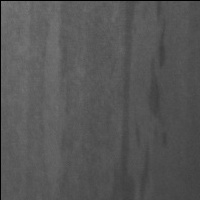inclusion: (117, 2, 145, 200), (55, 1, 83, 190), (146, 17, 174, 147)
